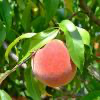Peach leaf: (18, 27, 60, 64), (57, 20, 84, 75), (25, 59, 41, 99), (0, 0, 13, 36), (44, 1, 60, 28)
